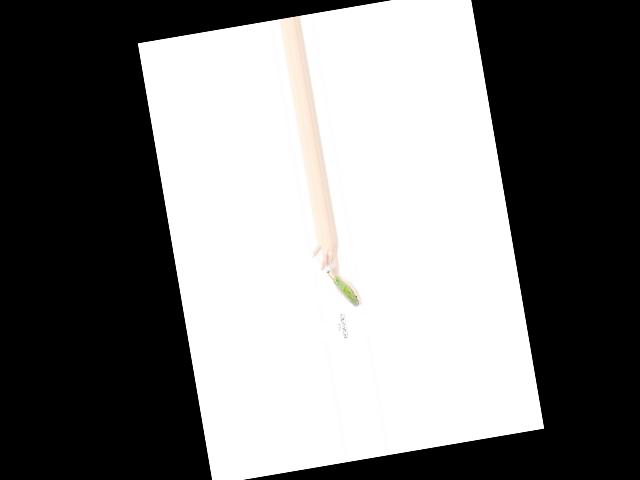cucumber: (332, 273, 359, 309)
